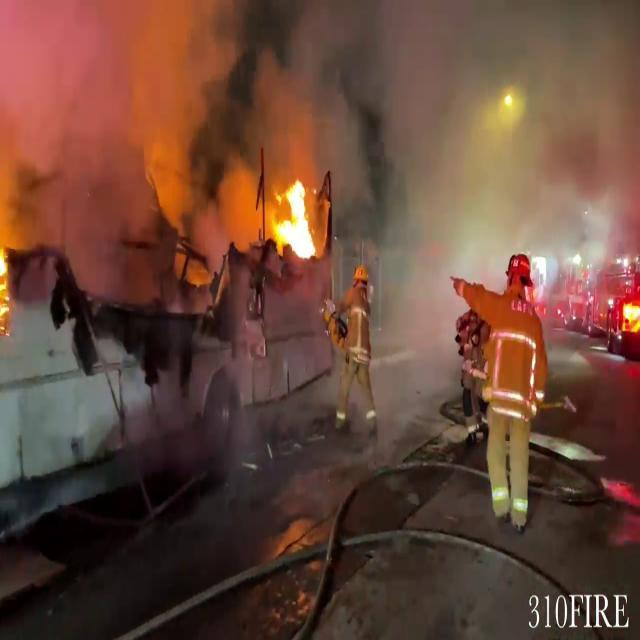Fire: (265, 176, 323, 264), (0, 220, 20, 328)
Smoke: (18, 0, 640, 218)
